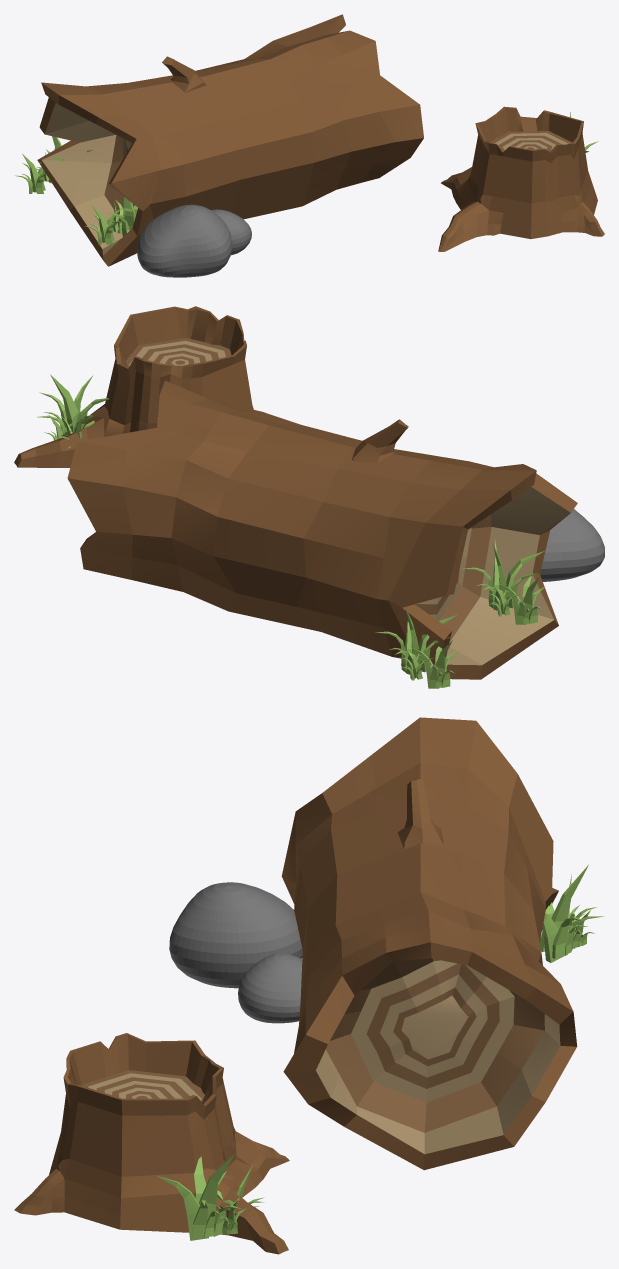
The model's file is outer.glb.
3 renders of one model, top to bottom at view 1: azimuth 30°, elevation 25°; view 2: azimuth 150°, elevation 25°; view 3: azimuth 270°, elevation 25°, orthographic. The views are drawn at different scales.
Parts seen in each view (by area): view 1: dead wood, rock, grass1.007; view 2: dead wood, grass1.007, rock; view 3: dead wood, rock, grass1.007.
Boxes of the visible parts, bbox=[...] form: dead wood: bbox=[37, 14, 604, 266]; rock: bbox=[137, 204, 251, 277]; grass1.007: bbox=[15, 112, 598, 244]; dead wood: bbox=[14, 306, 577, 679]; grass1.007: bbox=[37, 374, 545, 688]; rock: bbox=[540, 509, 604, 581]; dead wood: bbox=[14, 717, 577, 1254]; rock: bbox=[169, 882, 302, 1023]; grass1.007: bbox=[156, 865, 604, 1240].
Bounding box in the file's own units: 10.24 × 3.93 × 7.66.
